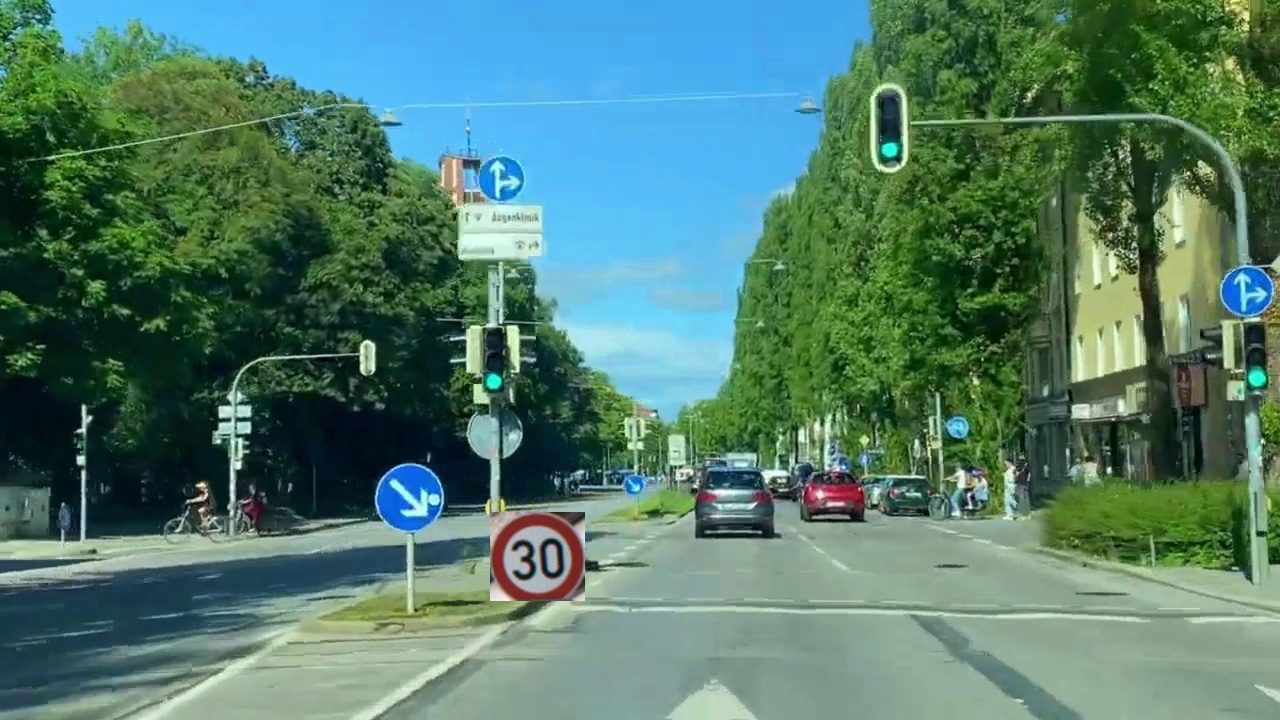Speed 30: (490, 512, 585, 601)
